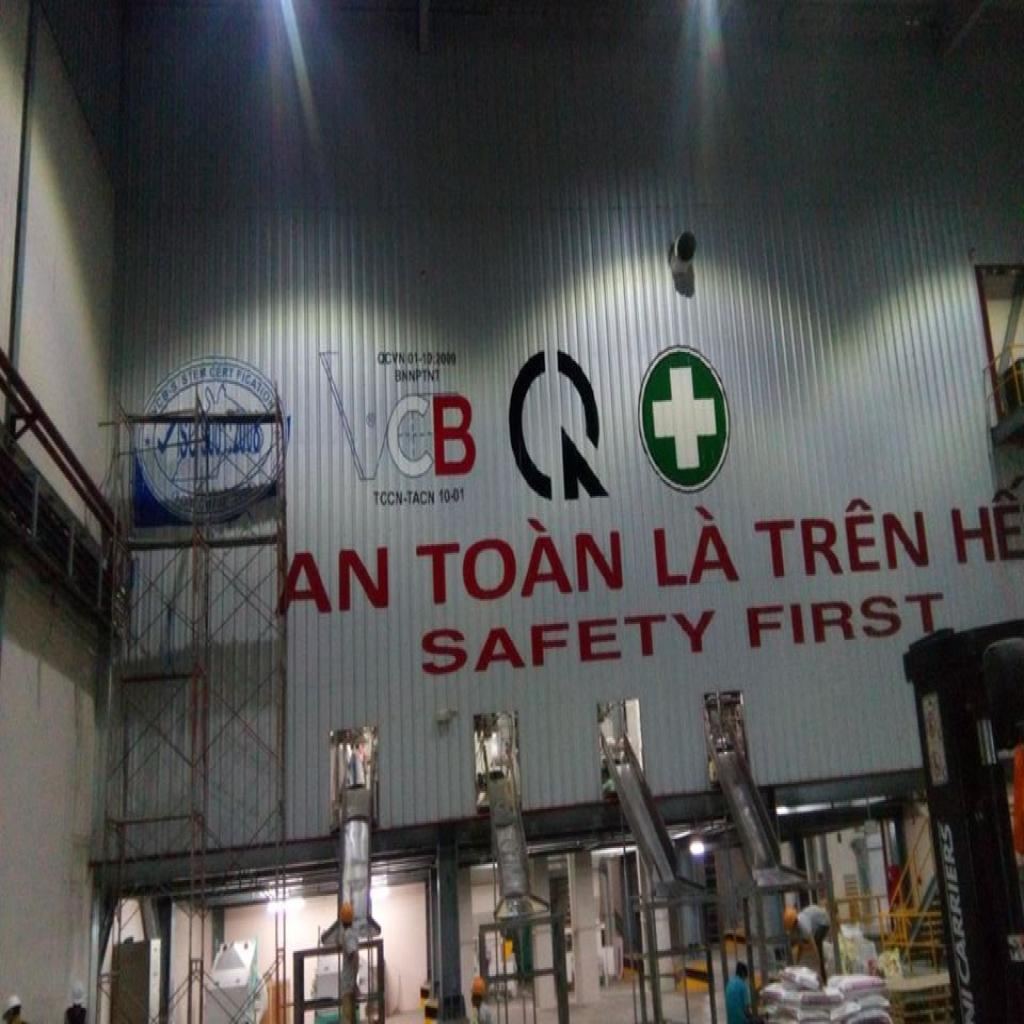text: (418, 601, 723, 684), (411, 505, 630, 611), (748, 489, 938, 588), (740, 583, 950, 658), (645, 496, 746, 597), (271, 542, 391, 620), (385, 389, 477, 482), (946, 469, 1024, 571), (937, 814, 974, 987), (371, 489, 436, 508), (392, 368, 442, 384), (438, 484, 468, 508)
